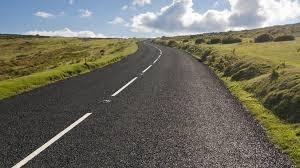field: (159, 24, 300, 165), (1, 37, 135, 99)
road: (1, 37, 291, 168)
